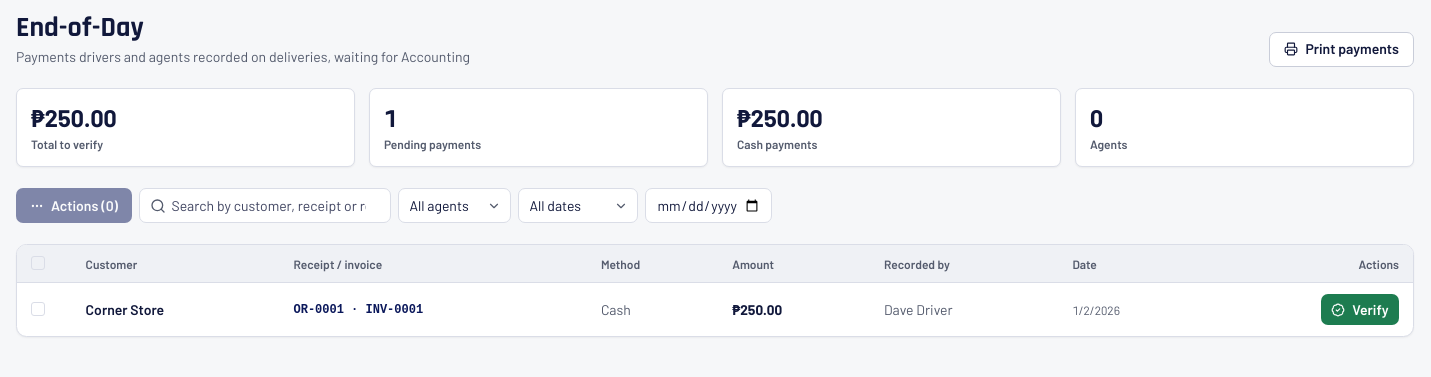
Test: PaymentVerification › lists every agent in the filter, even those without payments, and filters by the picked date
Expected: the row "Corner Store" is shown, [17,283,1413,336]
In the date field named "Filter by date": [708, 206] box [645,188,772,223], type "2026-01-03"
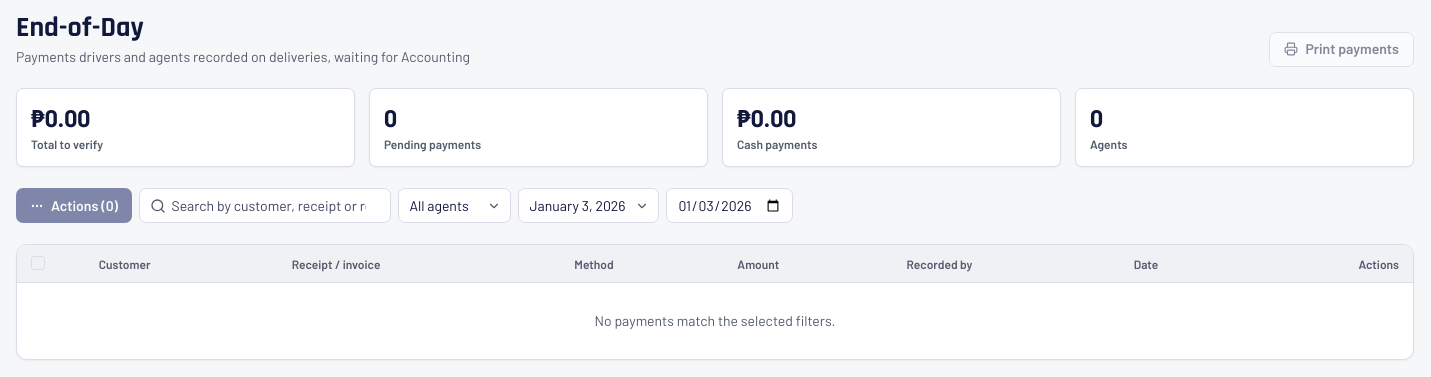
Expected: the text "No payments match the selected filters." is shown, [17,283,1413,359]
In the date field named "Filter by date": [730, 206] box [666,188,793,223], type "2026-01-02"
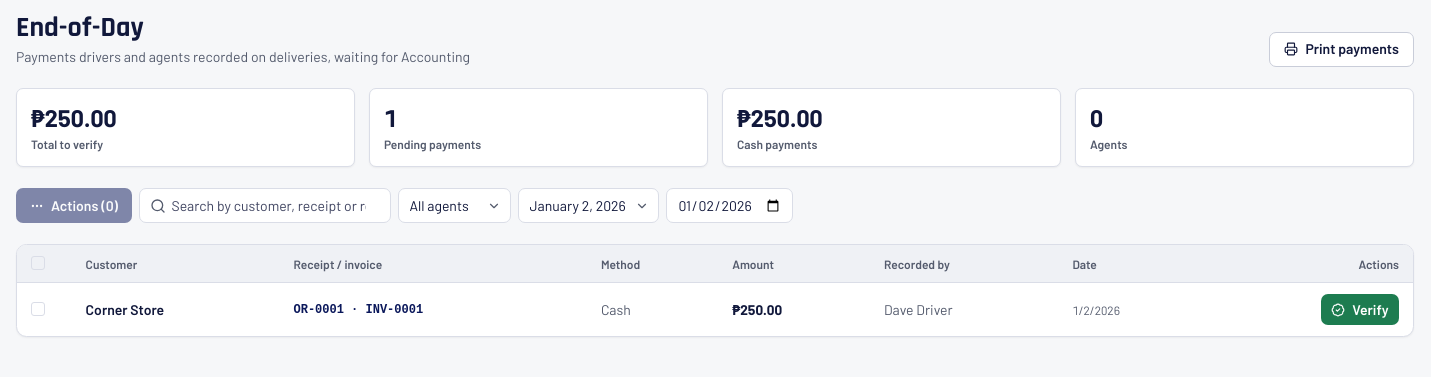
Expected: the row "Corner Store" is shown, [17,283,1413,336]
